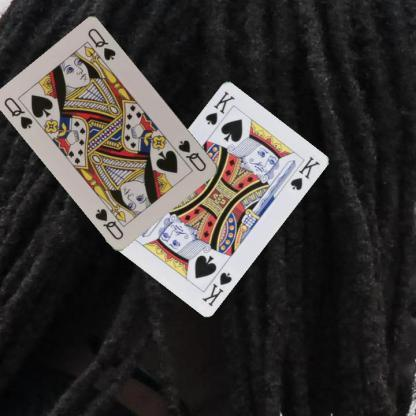Ks: (199, 268, 233, 308), (202, 88, 236, 126)
Qs: (176, 137, 209, 173), (2, 94, 34, 130)
